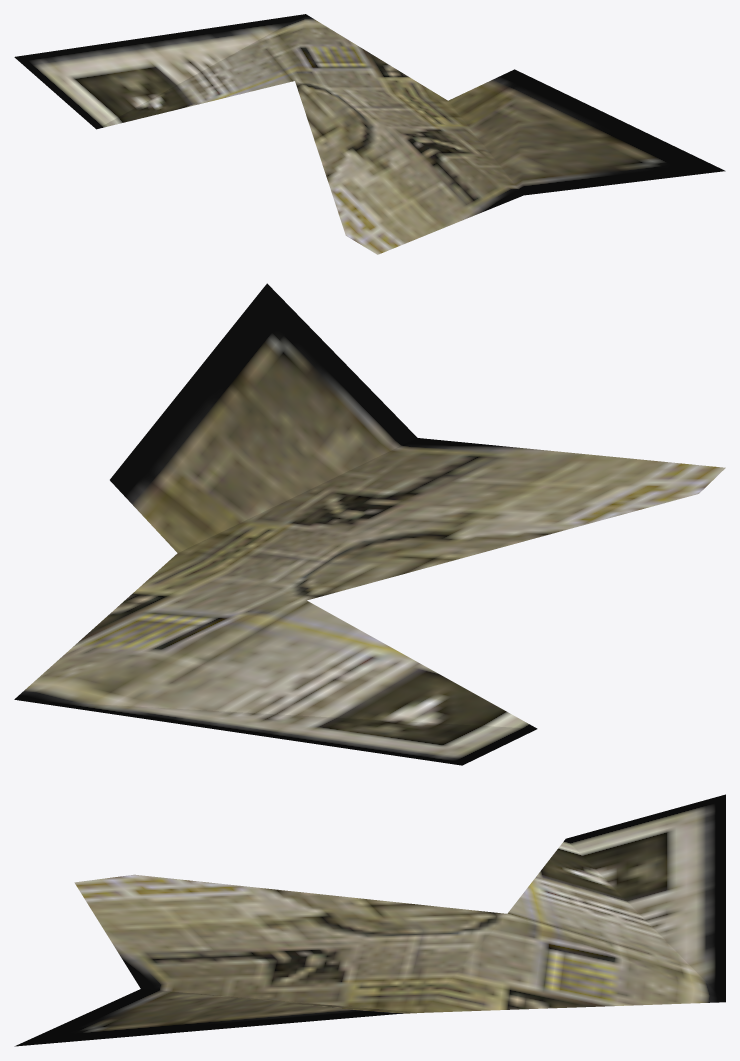
File: M_Home_Garden_paper06.fbx
3 renders of one model, top to bottom at view 1: azimuth 30°, elevation 25°; view 2: azimuth 150°, elevation 25°; view 3: azimuth 270°, elevation 25°, orthographic. The views are drawn at different scales.
Parts seen in each view (by area): view 1: M_Home_Garden_paper06; view 2: M_Home_Garden_paper06; view 3: M_Home_Garden_paper06.
Boxes of the visible parts, x1,y1,x2,y2 form: M_Home_Garden_paper06: (14, 14, 725, 254); M_Home_Garden_paper06: (14, 283, 725, 765); M_Home_Garden_paper06: (14, 794, 725, 1046).
Size of the model in its own units: 77.13 by 4.97 by 93.13.
